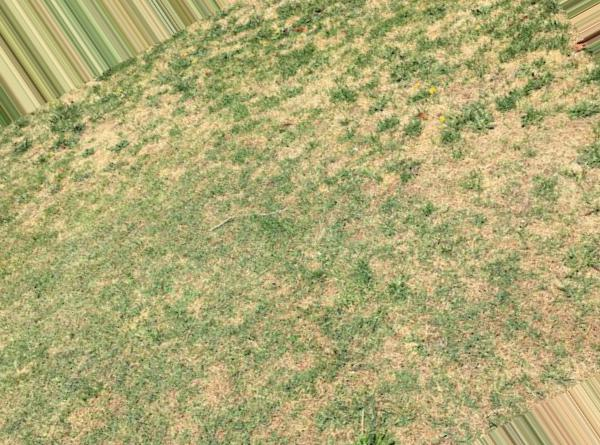patch: (345, 139, 504, 288), (369, 307, 505, 407), (127, 114, 279, 191), (163, 226, 290, 315), (459, 41, 557, 114), (192, 359, 296, 422), (71, 289, 161, 356), (529, 297, 596, 356), (13, 143, 94, 190)
